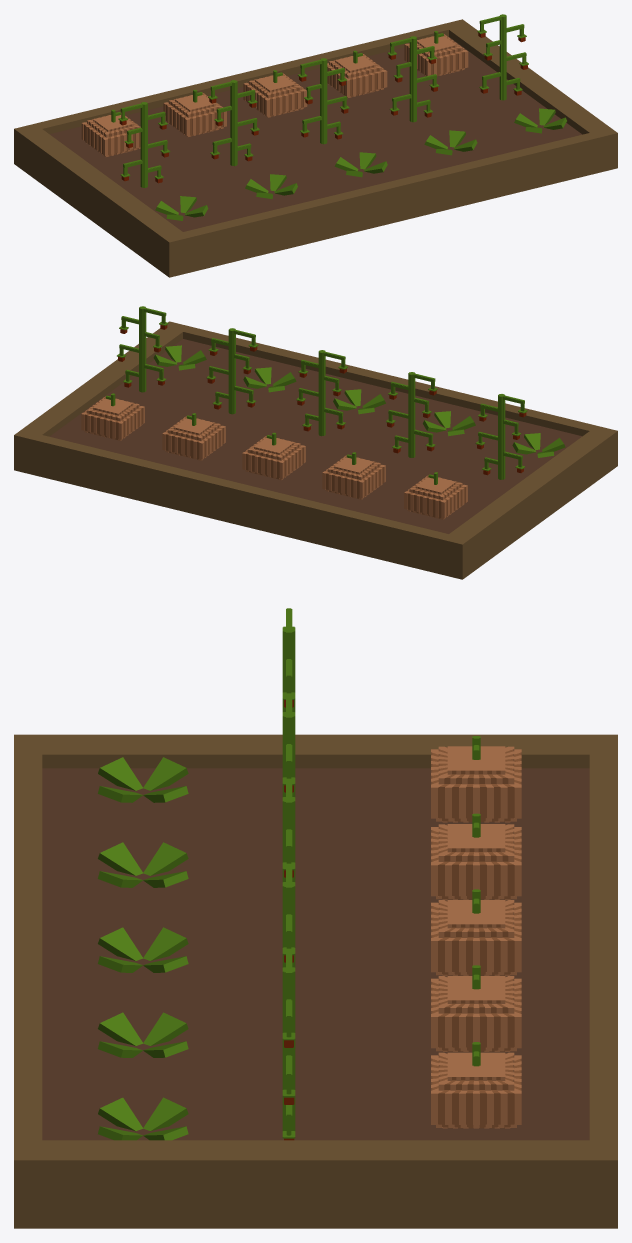
The model's file is vegetables.fbx.
3 renders of one model, top to bottom at view 1: azimuth 30°, elevation 25°; view 2: azimuth 150°, elevation 25°; view 3: azimuth 270°, elevation 25°, orthographic. The views are drawn at different scales.
Parts seen in each view (by area): view 1: bac, pumpkin LOD.004, pumpkin LOD.002, pumpkin LOD.006, pumpkin LOD.001, pumpkin LOD.008, tomatoe +.002, tomatoe +.005, tomatoe +.001, tomatoe +.006, tomatoe +.009, tomatoe +.004 (+9 smaller); view 2: bac, pumpkin LOD.006, pumpkin LOD.002, pumpkin LOD.008, pumpkin LOD.001, pumpkin LOD.004, tomatoe +.002, tomatoe +.005, tomatoe +.009, tomatoe +.006, tomatoe +.001, tomatoe +.008 (+9 smaller); view 3: bac, pumpkin LOD.008, pumpkin LOD.001, pumpkin LOD.006, pumpkin LOD.004, pumpkin LOD.002, carrot.004, carrot.003, carrot, carrot.001, carrot.002, tomatoe +.005 (+5 smaller).
Part boxes in pixels (x1,y1,x2,y2): bac: (14,19,617,277); pumpkin LOD.004: (243,70,307,117); pumpkin LOD.002: (163,89,226,137); pumpkin LOD.006: (327,50,387,97); pumpkin LOD.001: (81,109,140,156); pumpkin LOD.008: (404,31,468,76); tomatoe +.002: (387,36,437,83); tomatoe +.005: (477,14,526,61); tomatoe +.001: (297,58,347,105); tomatoe +.006: (208,80,257,127); tomatoe +.009: (118,102,167,149); tomatoe +.004: (479,52,528,100); bac: (14,321,617,579); pumpkin LOD.006: (162,413,225,460); pumpkin LOD.002: (322,452,385,499); pumpkin LOD.008: (81,393,144,440); pumpkin LOD.001: (404,472,467,519); pumpkin LOD.004: (242,432,305,480); tomatoe +.002: (209,328,258,375); tomatoe +.005: (119,306,168,353); tomatoe +.009: (478,394,527,441); tomatoe +.006: (388,372,437,419); tomatoe +.001: (298,350,347,397); tomatoe +.008: (475,431,524,479); bac: (14,734,617,1228); pumpkin LOD.008: (431,1042,521,1128); pumpkin LOD.001: (431,736,521,822); pumpkin LOD.006: (431,965,521,1051); pumpkin LOD.004: (431,889,521,975); pumpkin LOD.002: (431,813,521,900); carrot.004: (98,757,188,802); carrot.003: (98,842,188,887); carrot: (98,927,188,972); carrot.001: (98,1012,188,1057); carrot.002: (98,1097,188,1140); tomatoe +.005: (282,948,295,1055).
Size of the model in its own units: 500 by 119 by 300.
